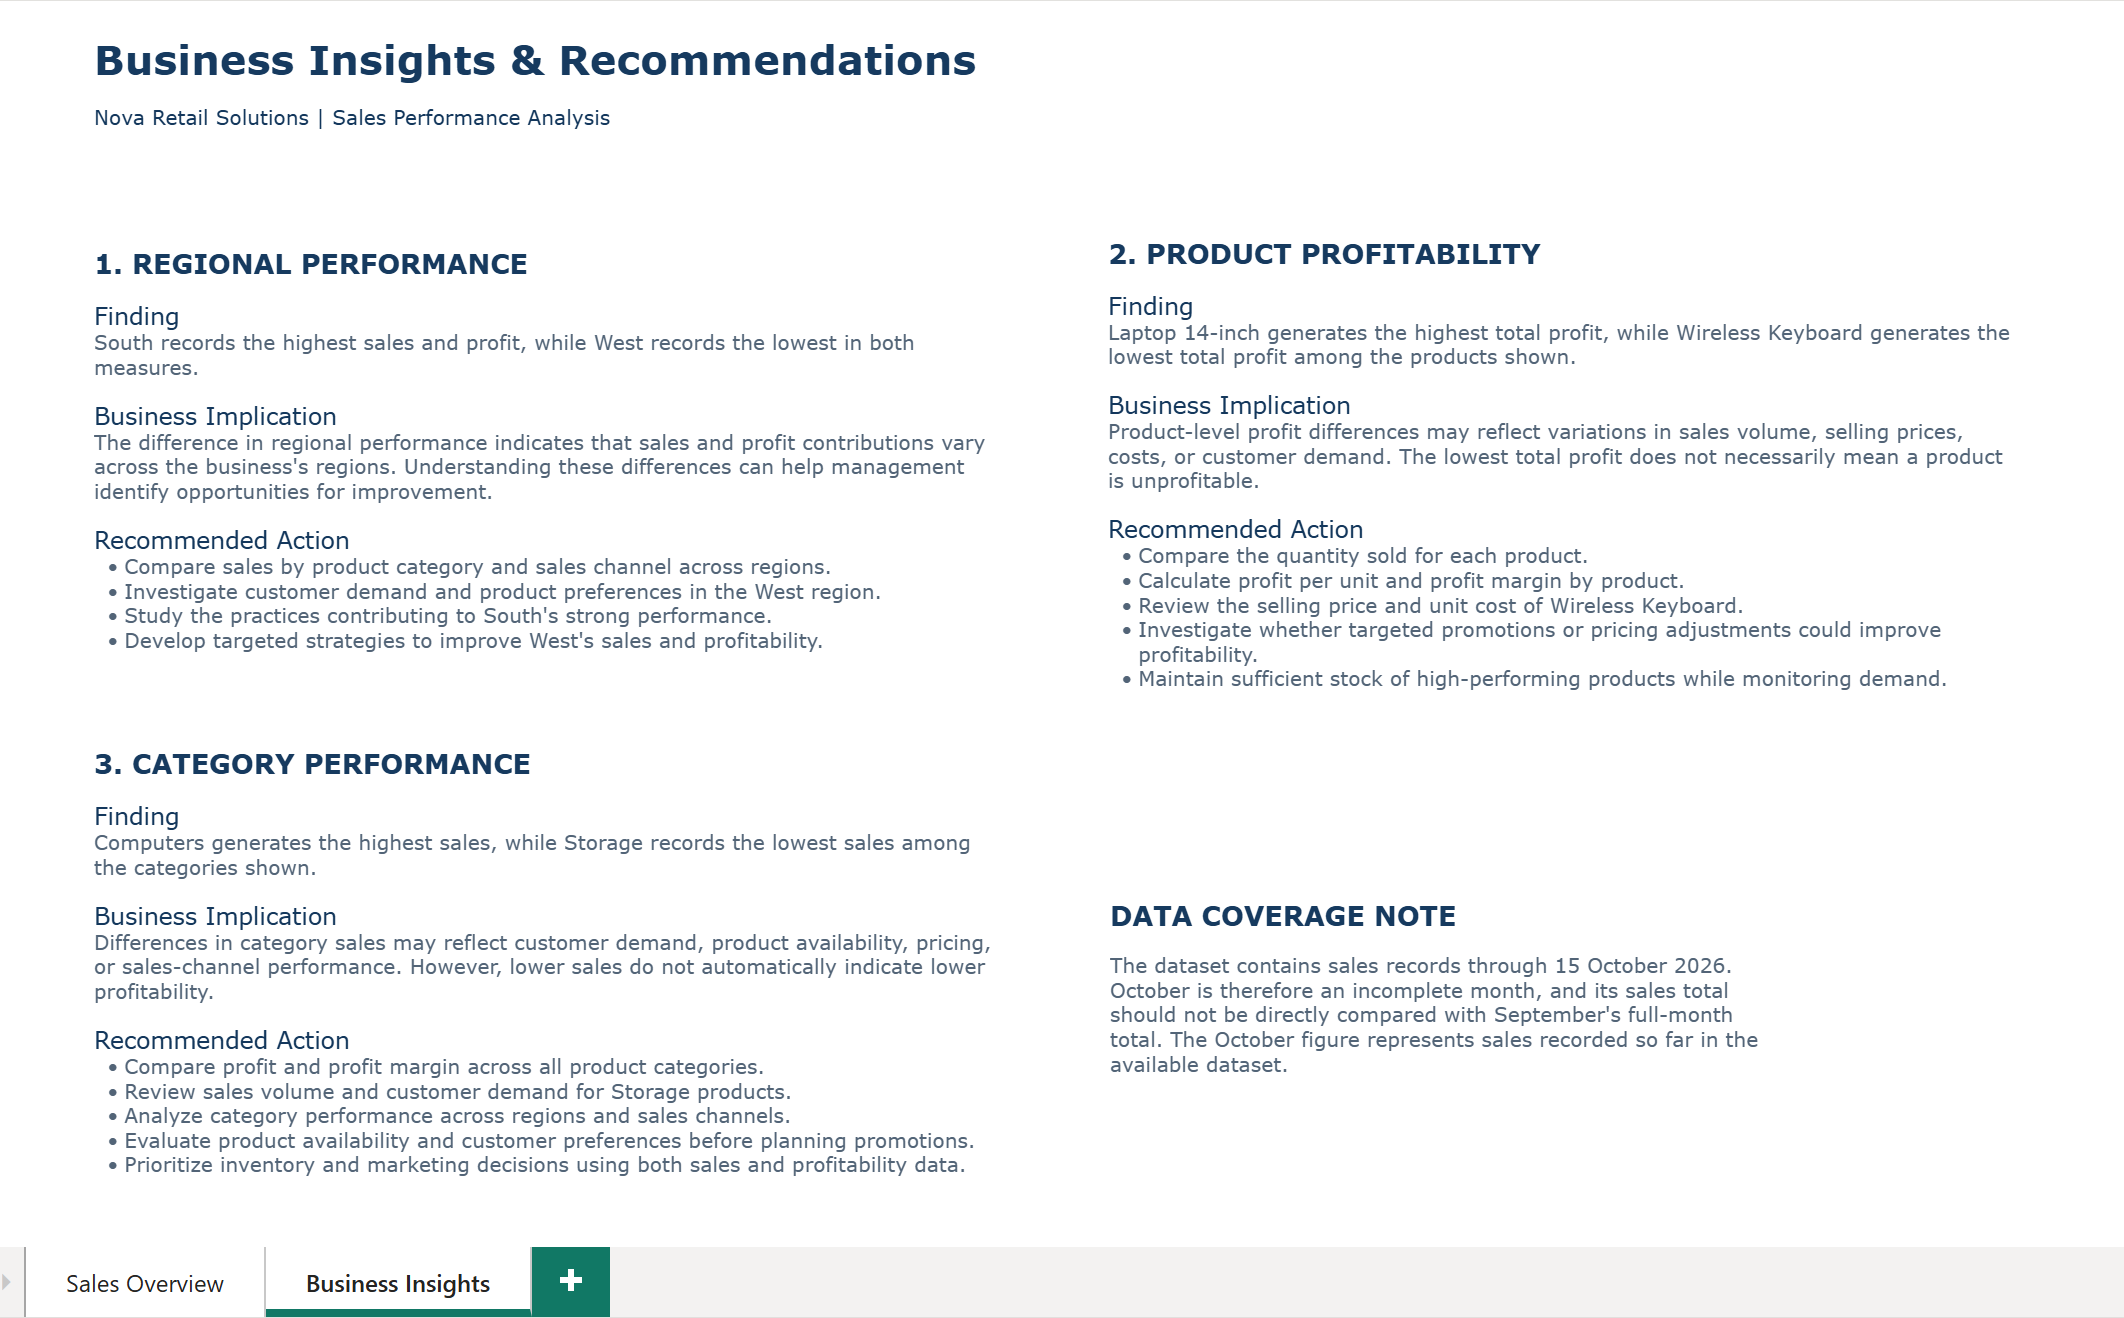

Layout of this report page (visuals, bound fields, positions):
{"tool":"powerbi","page":{"name":"Business Insights","canvas":[1920,1080],"ordinal":1},"visuals":[{"type":"textbox","box":[198.9,26.8,713.5,78.7],"z":0},{"type":"textbox","box":[198.6,194.7,731.9,397.1],"z":1000},{"type":"textbox","box":[1003.6,169.3,718.8,447.8],"z":2000},{"type":"textbox","box":[198.4,591.8,713.1,395.1],"z":3000},{"type":"textbox","box":[1004,713.3,519.7,152.5],"z":3001}]}

Visuals, with their boxes on the page's 1920x1080 design canvas (x1, y1, x2, y2). These are canvas units, not pixel positions in the 2124x1318 screenshot, which may show the page scaled, cropped or inside an application window:
textbox: 199:27:912:106
textbox: 199:195:930:592
textbox: 1004:169:1722:617
textbox: 198:592:912:987
textbox: 1004:713:1524:866
